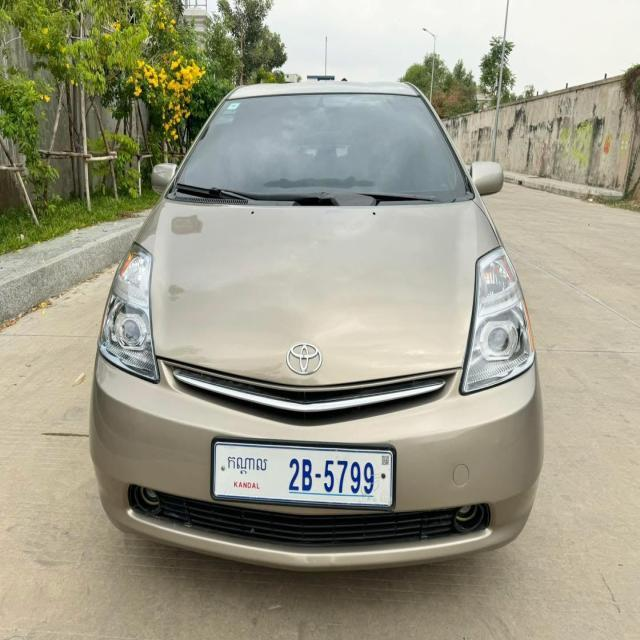Kandal: (228, 452, 272, 476)
